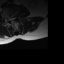CCS_normal: (11, 16, 13, 23)
LFS_stenosis: (15, 15, 16, 19)
LLS_stenosis: (13, 16, 15, 22)
RFS_normal: (7, 16, 9, 22)
RLS_normal: (9, 16, 11, 22)
